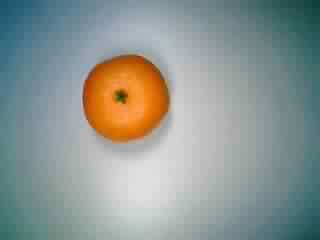orange: (74, 51, 172, 149)
